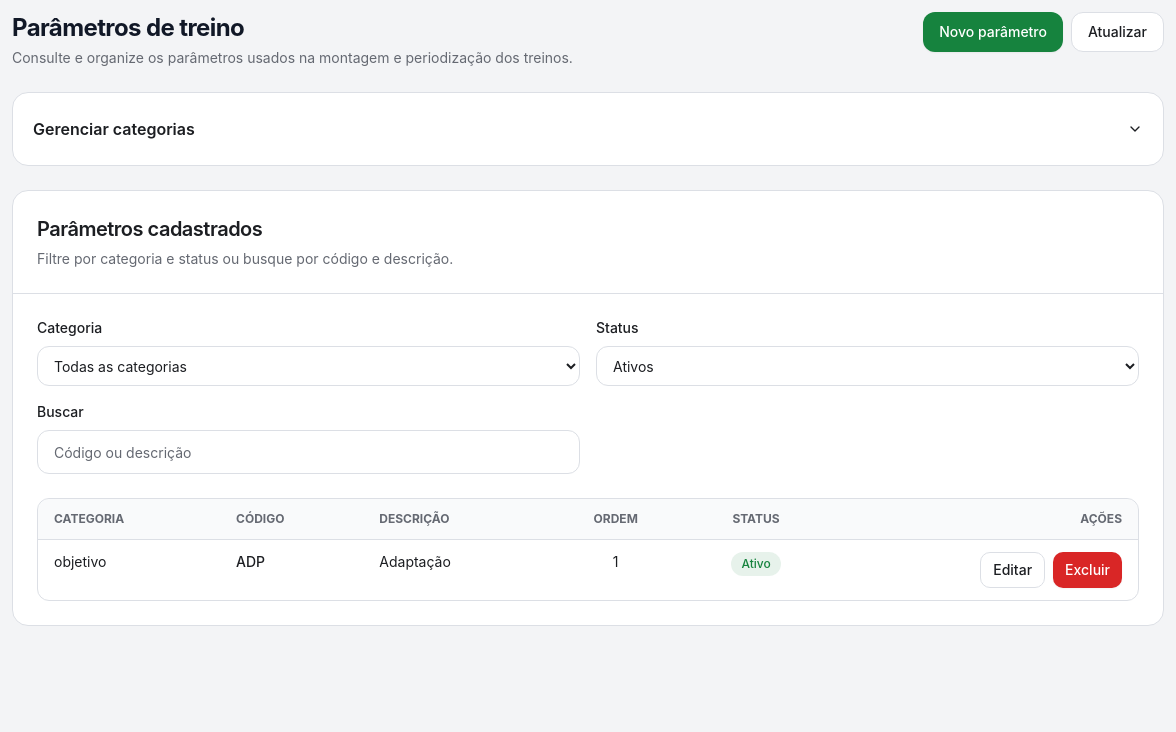
SettingsParameters › inicia na lista, mantém categorias recolhidas e substitui a tabela pelo editor
The image size is (1176, 732).
Expected: the table is shown, [38, 499, 1138, 600]
Click the button "Novo parâmetro" at (993, 32), box [923, 12, 1063, 52]
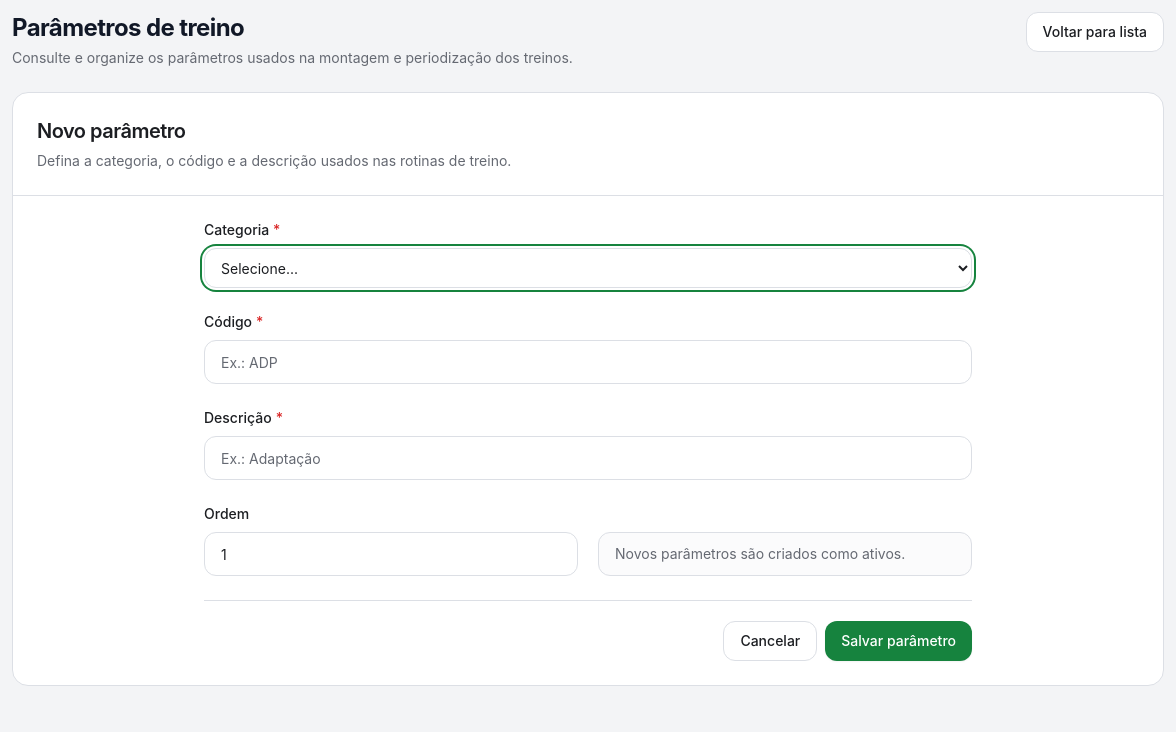
Now the heading "Novo parâmetro" is shown, box [37, 119, 186, 143]
Now the table is gone
Now the text "Novos parâmetros são criados como ativos." is shown, box [598, 532, 972, 576]
